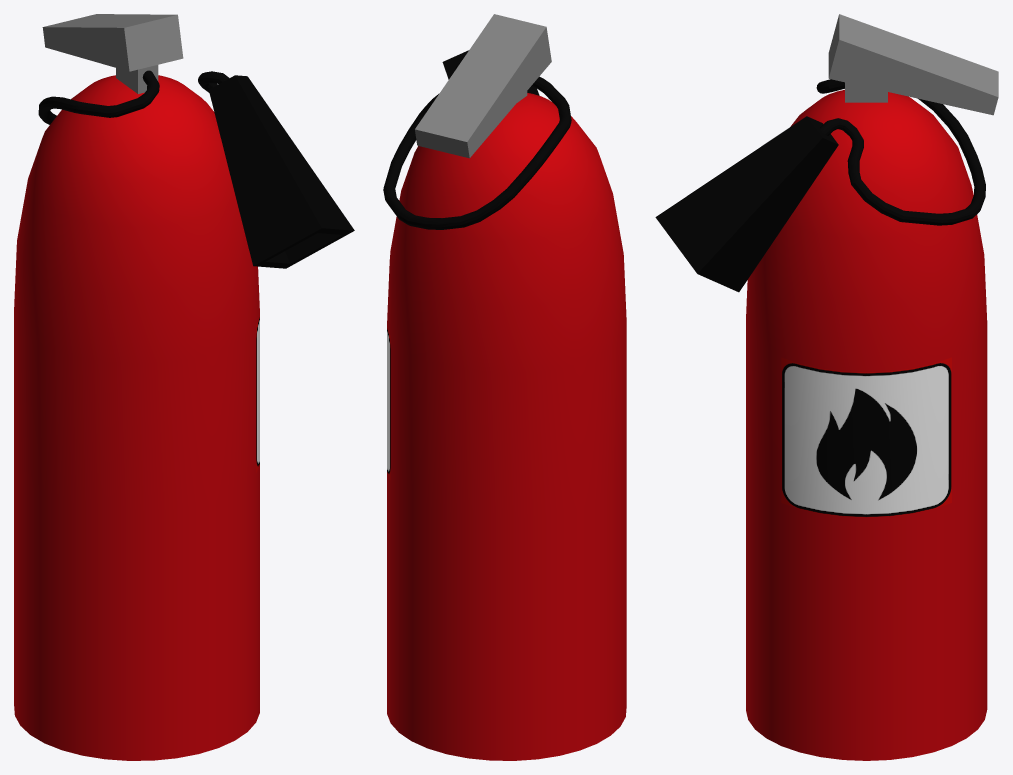
The model's file is Elec_fire extinguisher.fbx.
The picture shows the model from 3 angles, left to right: view 1: azimuth 30°, elevation 25°; view 2: azimuth 150°, elevation 25°; view 3: azimuth 270°, elevation 25°; orthographic projection. The views are drawn at different scales.
Parts seen in each view (by area): view 1: Cylinder; view 2: Cylinder; view 3: Cylinder.
Boxes of the visible parts, box(x1,y1,x2,y2) form: Cylinder: box(14, 14, 354, 760); Cylinder: box(383, 14, 626, 760); Cylinder: box(655, 14, 998, 760).
Bounding box in the file's own units: 89.92 × 252 × 115.
4 materials, 1 textured.
